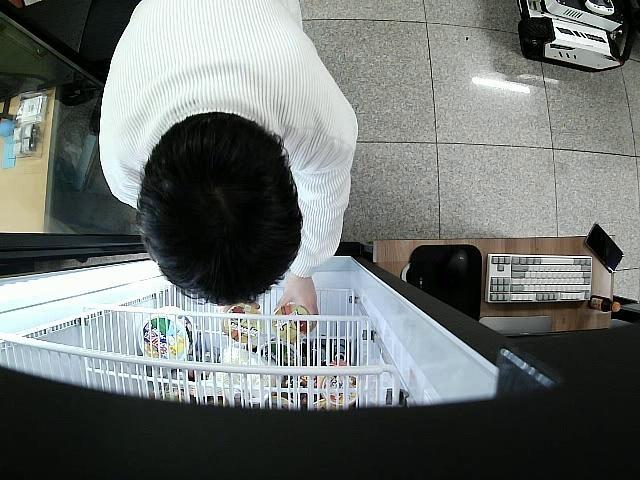04_chapagetti_S: (272, 304, 312, 344)
